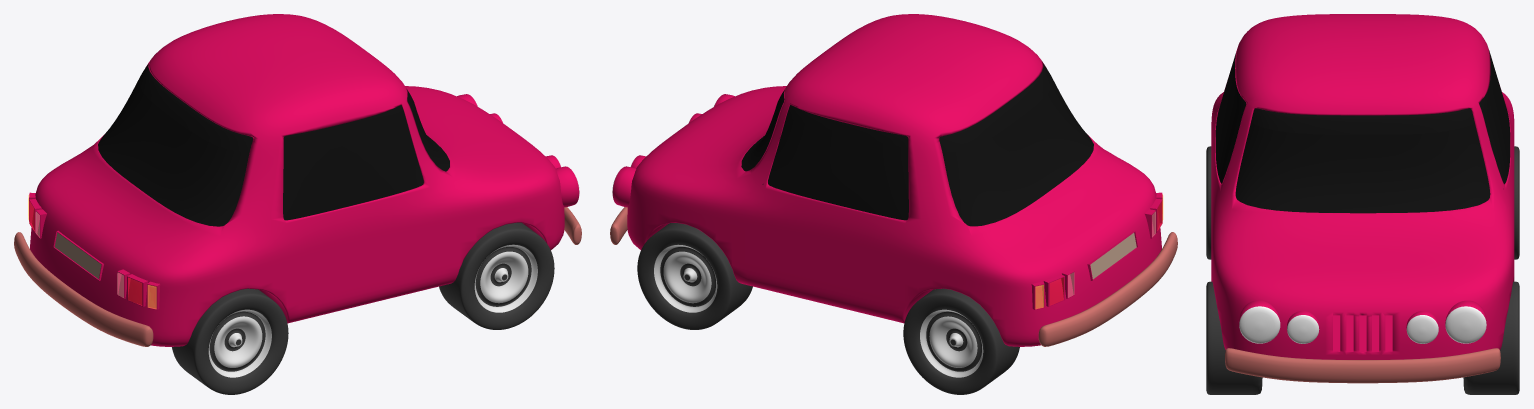
The model's file is uploads_files_3165473_toy+car+1.glb.
3 views of the same model, side by side, from view 1: azimuth 30°, elevation 25°; view 2: azimuth 150°, elevation 25°; view 3: azimuth 270°, elevation 25° (orthographic). The views are drawn at different scales.
Parts seen in each view (by area): view 1: Body, Cube.003, Cylinder.004, Cylinder.005, Cube.004, Cube.012, Sphere, Cube.010, Cube.011; view 2: Body, Cube.003, Cylinder.006, Cylinder.007, Cube.004, Cube.012, Sphere, Cube.010, Cube.011; view 3: Body, Cube.003, Cube.005, Sphere, Cylinder.007, Cylinder.005, Sphere.001, Cylinder.004, Cylinder.006.
Part boxes in pixels (box(x1,y1,x2,y2)): Body: box(30, 14, 564, 346); Cube.003: box(98, 64, 449, 226); Cylinder.004: box(172, 288, 288, 394); Cylinder.005: box(439, 222, 554, 329); Cube.004: box(14, 232, 153, 346); Cube.012: box(53, 230, 103, 280); Sphere: box(457, 94, 579, 207); Cube.010: box(29, 198, 148, 306); Cube.011: box(36, 209, 129, 298); Body: box(627, 14, 1161, 346); Cube.003: box(741, 64, 1093, 226); Cylinder.006: box(903, 288, 1019, 394); Cylinder.007: box(637, 223, 752, 329); Cube.004: box(1038, 232, 1177, 346); Cube.012: box(1087, 231, 1138, 280); Sphere: box(612, 94, 734, 207); Cube.010: box(1043, 198, 1162, 306); Cube.011: box(1061, 209, 1155, 298); Body: box(1211, 14, 1514, 359); Cube.003: box(1215, 50, 1510, 213); Cube.005: box(1225, 348, 1500, 383); Sphere: box(1238, 300, 1486, 343); Cylinder.007: box(1463, 281, 1519, 394); Cylinder.005: box(1206, 281, 1262, 394); Sphere.001: box(1286, 311, 1438, 343); Cylinder.004: box(1206, 146, 1211, 259); Cylinder.006: box(1514, 146, 1519, 259).
Size of the model in its own units: 4.77 by 2.52 by 2.63.
